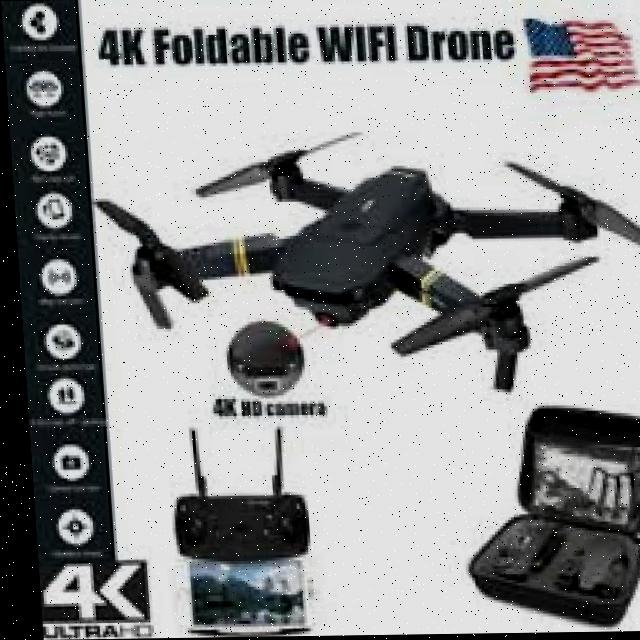drone: (92, 121, 640, 411)
